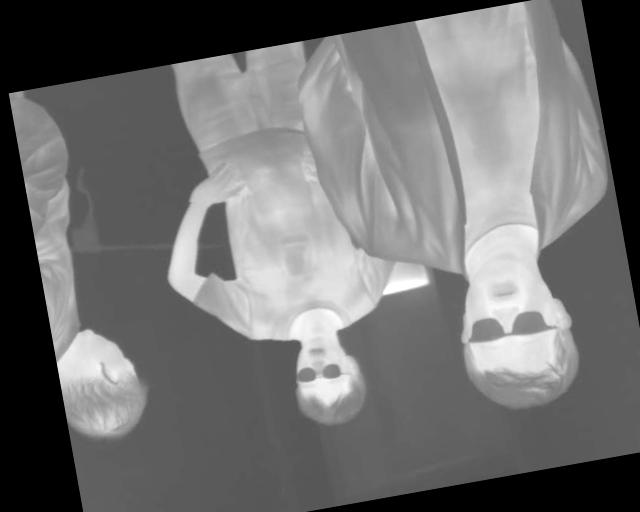face: (447, 244, 586, 419), (284, 328, 372, 431)
